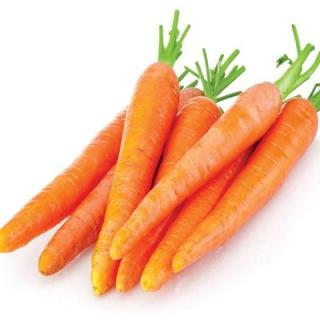carrot: (110, 75, 282, 261), (172, 95, 318, 275), (89, 59, 181, 300)
